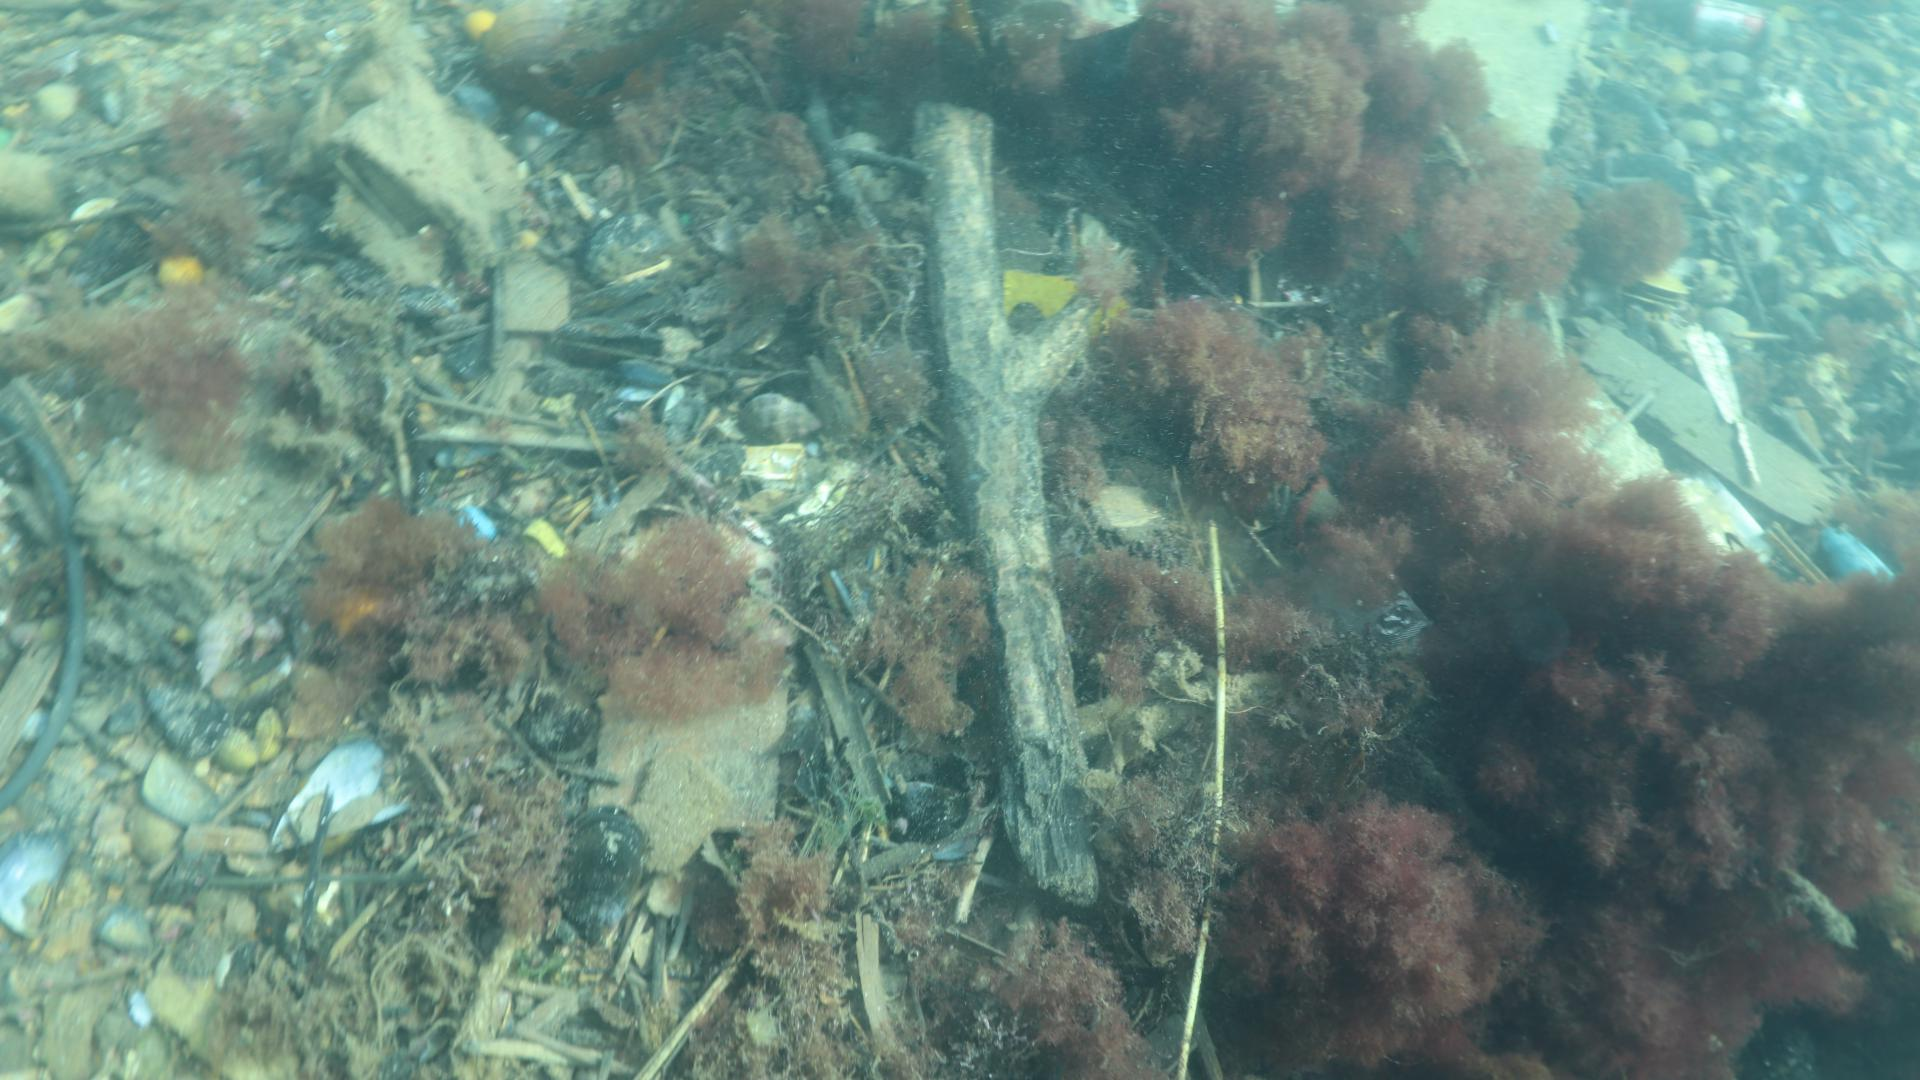wood: (906, 98, 1105, 909)
